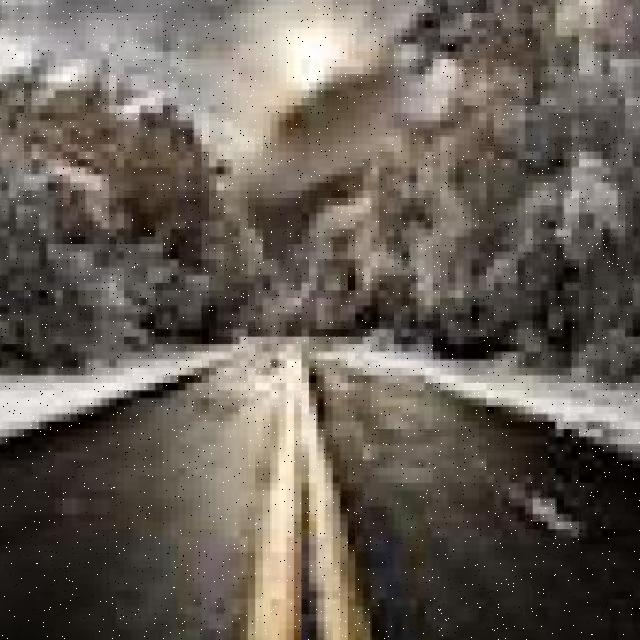ice-road: (317, 367, 640, 640), (0, 352, 286, 640)
